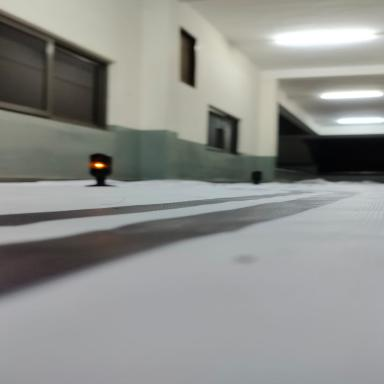yellow: (73, 141, 134, 194)
